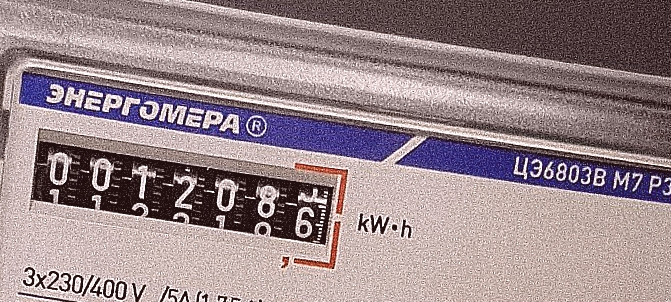0: (44, 146, 75, 188), (87, 154, 116, 194), (211, 174, 239, 213)
1: (129, 160, 155, 202)
2: (170, 171, 200, 212)
6: (290, 202, 317, 241)
8: (251, 181, 281, 221)
screen: (17, 120, 358, 276)
